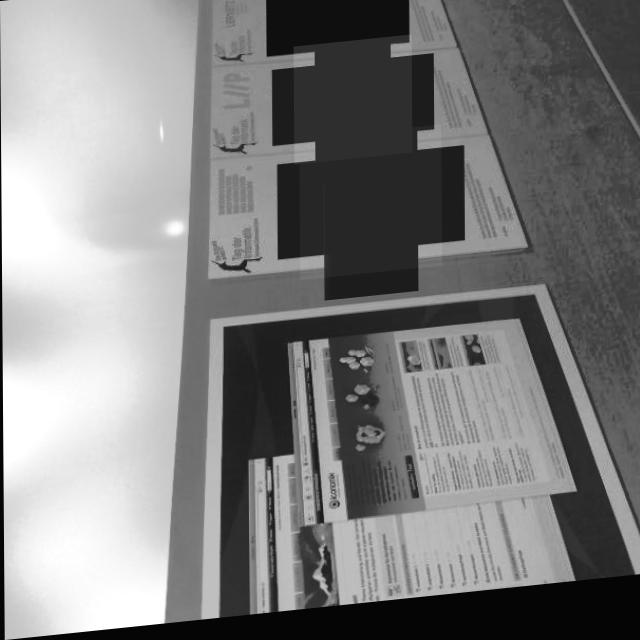qr_code: (299, 133, 442, 286), (293, 42, 412, 170), (266, 0, 409, 62)
